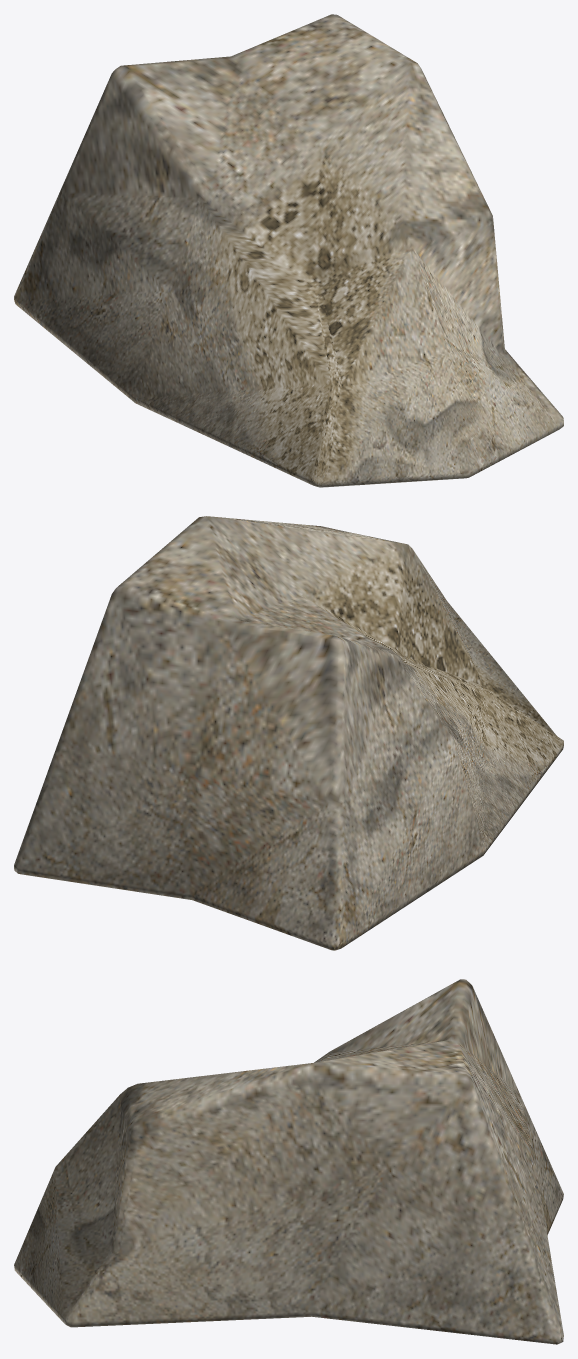
Rendered from Debris_Small_Concrete_04.fbx.
3 views of the same model, one above another, from view 1: azimuth 30°, elevation 25°; view 2: azimuth 150°, elevation 25°; view 3: azimuth 270°, elevation 25° (orthographic). The views are drawn at different scales.
Visible parts, largest first — view 1: Debris_Small_Concrete_04; view 2: Debris_Small_Concrete_04; view 3: Debris_Small_Concrete_04.
Boxes of the visible parts, x1,y1,x2,y2 form: Debris_Small_Concrete_04: (14,14,563,487); Debris_Small_Concrete_04: (14,516,563,950); Debris_Small_Concrete_04: (14,979,563,1344).
Size of the model in its own units: 0.165 by 0.1282 by 0.2486.
